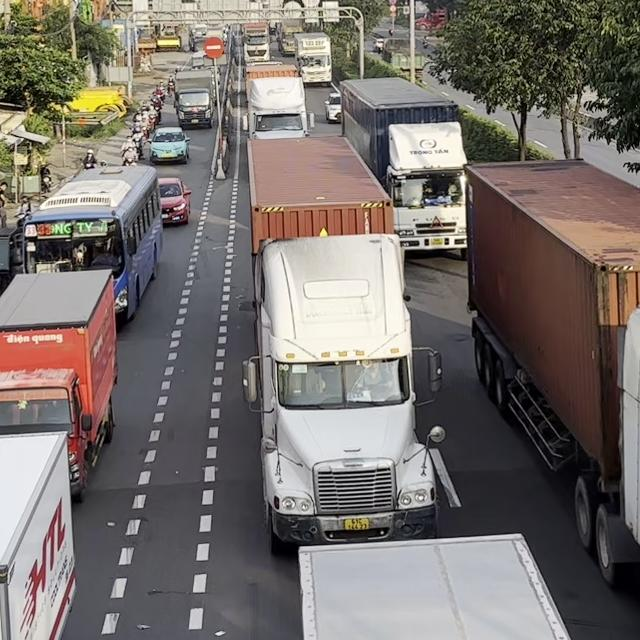bus: (21, 163, 163, 324)
car: (156, 177, 192, 225), (148, 126, 191, 165), (323, 91, 341, 123)
motorcycle: (121, 146, 138, 166), (40, 165, 52, 192), (82, 155, 96, 169)
truck: (240, 134, 447, 553), (464, 156, 639, 585), (297, 532, 575, 639), (0, 267, 118, 502), (339, 76, 469, 259), (0, 428, 77, 639), (245, 63, 314, 139), (173, 68, 215, 129), (293, 31, 332, 86), (242, 21, 270, 63), (276, 19, 304, 56)
